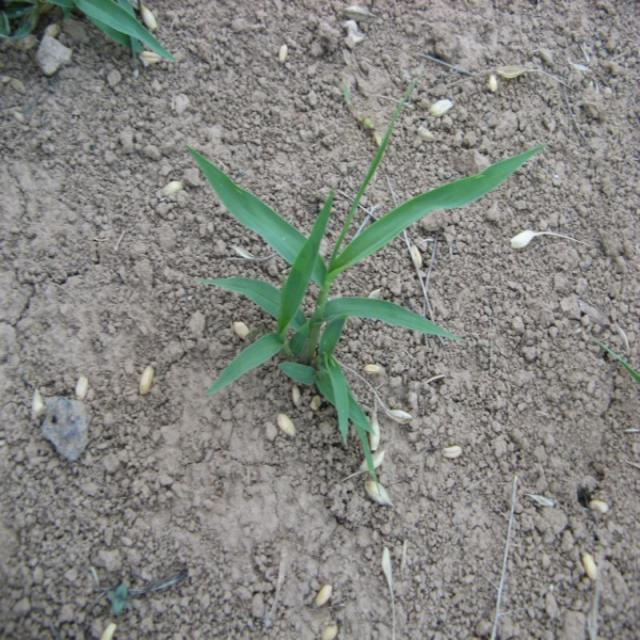bg: (190, 116, 531, 447)
